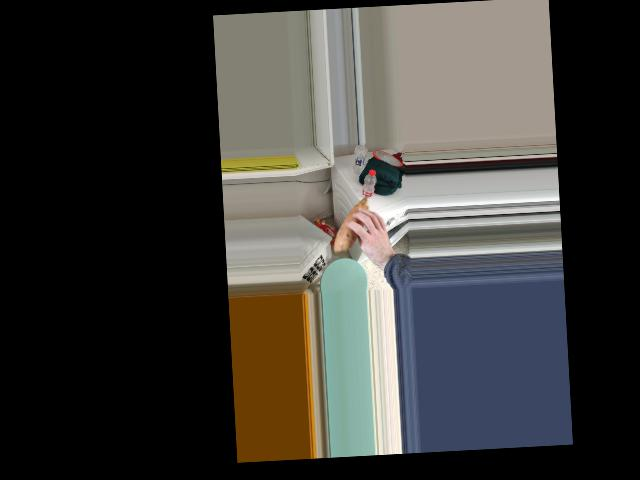sweet_potato: (331, 198, 377, 245)
